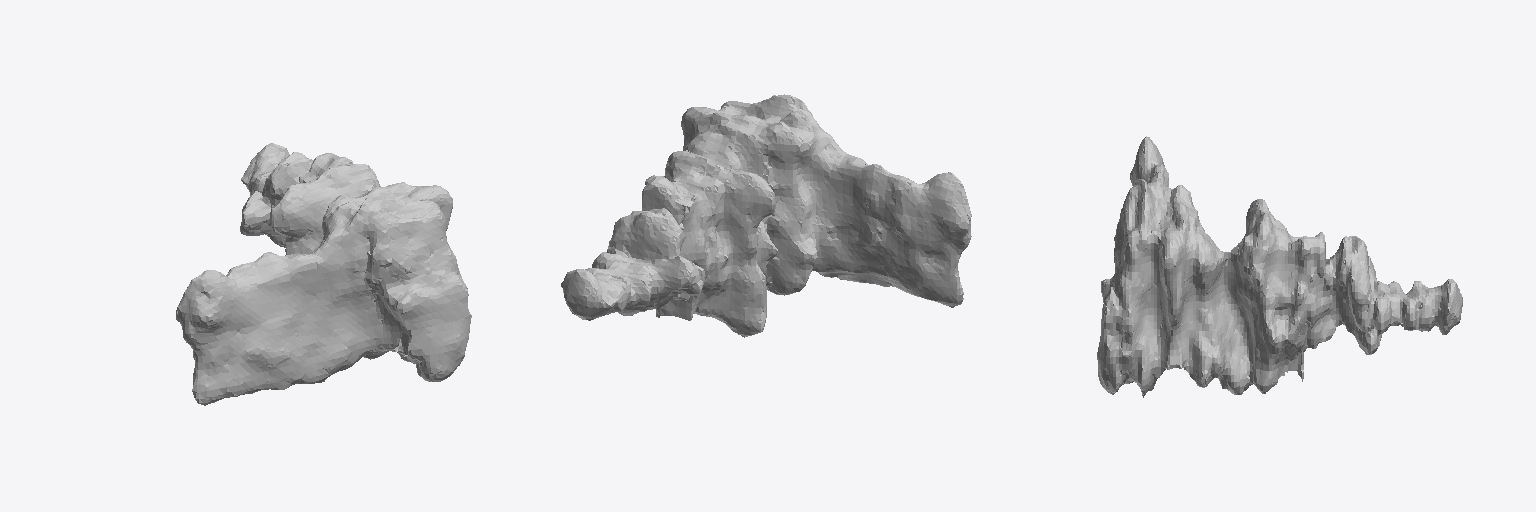
File: sister_rock_wall_based_front_on.obj
3 renders of one model, left to right at view 1: azimuth 30°, elevation 25°; view 2: azimuth 150°, elevation 25°; view 3: azimuth 270°, elevation 25°, orthographic.
Parts seen in each view (by area): view 1: sister_rock_wall_based_Cube.020; view 2: sister_rock_wall_based_Cube.020; view 3: sister_rock_wall_based_Cube.020.
Boxes of the visible parts, <box> form: sister_rock_wall_based_Cube.020: <box>176,143,471,405</box>; sister_rock_wall_based_Cube.020: <box>561,94,971,337</box>; sister_rock_wall_based_Cube.020: <box>1097,136,1462,397</box>.
Size of the model in its own units: 1.89 by 1.28 by 2.13.